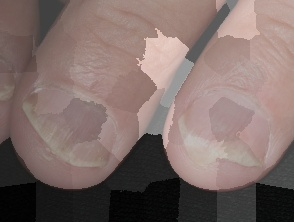Nail_psoriasis: (7, 77, 127, 188), (159, 103, 278, 199), (0, 80, 19, 107)
